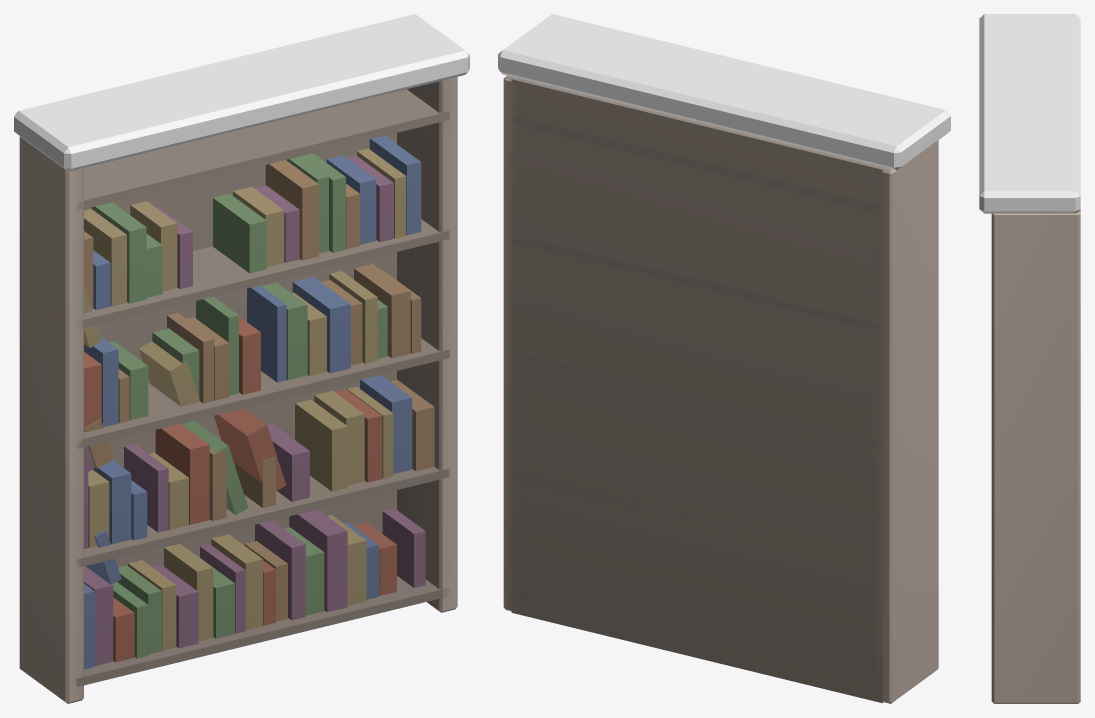
Rendered from bookshelf_gallery_1.glb.
3 renders of one model, left to right at view 1: azimuth 30°, elevation 25°; view 2: azimuth 150°, elevation 25°; view 3: azimuth 270°, elevation 25°, orthographic. The views are drawn at different scales.
Parts seen in each view (by area): view 1: book; view 2: book; view 3: book.
Boxes of the visible parts, left/top/right/bottom form: book: left=14, top=14, right=469, bottom=703; book: left=498, top=14, right=950, bottom=703; book: left=979, top=14, right=1080, bottom=703.
Bounding box in the file's own units: 1.74 × 2.3 × 0.41.
